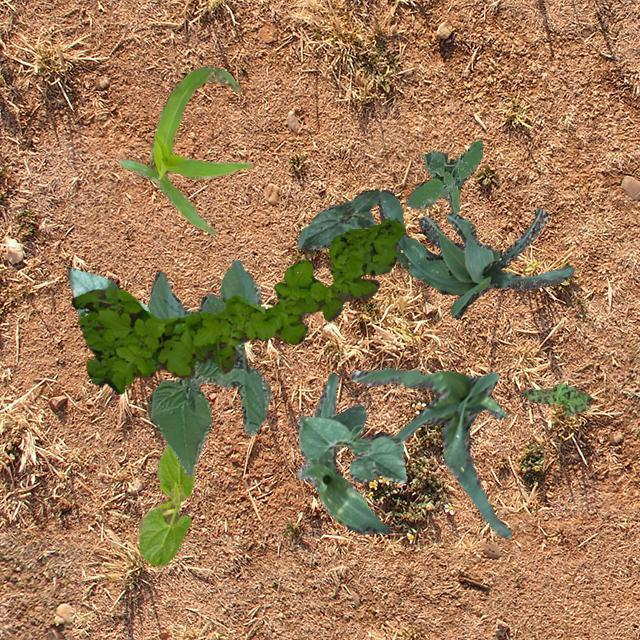crop: (350, 367, 510, 538), (147, 258, 270, 476), (377, 188, 572, 318), (118, 64, 252, 235), (296, 372, 389, 534), (296, 403, 406, 482), (138, 442, 194, 566), (296, 188, 378, 248), (66, 268, 148, 318)
weed: (70, 216, 403, 392), (406, 140, 482, 212), (522, 382, 590, 416)
